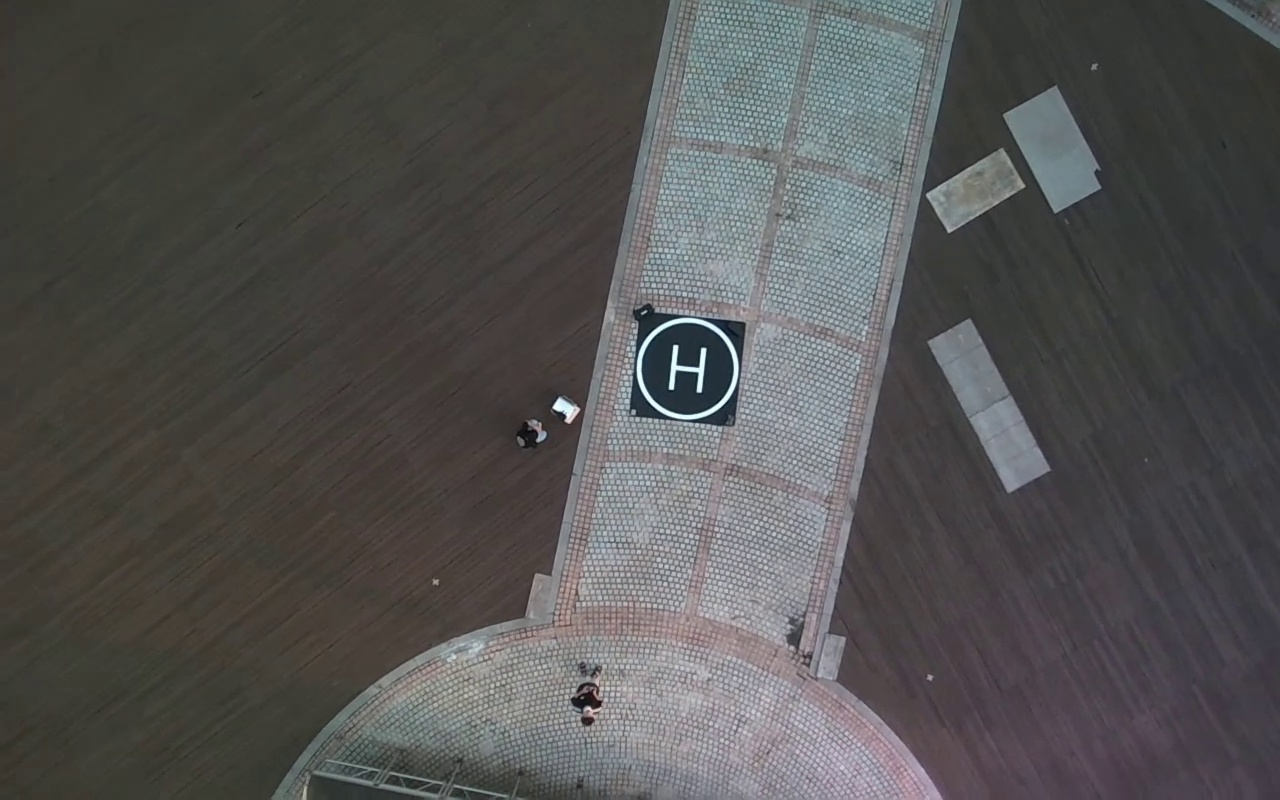H: (666, 345, 706, 394)
heliport: (636, 317, 740, 419)
